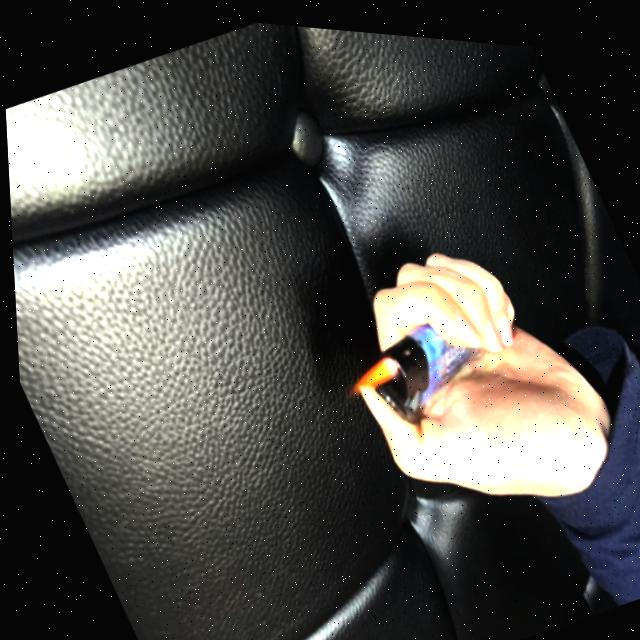Fire: (334, 344, 400, 397)
